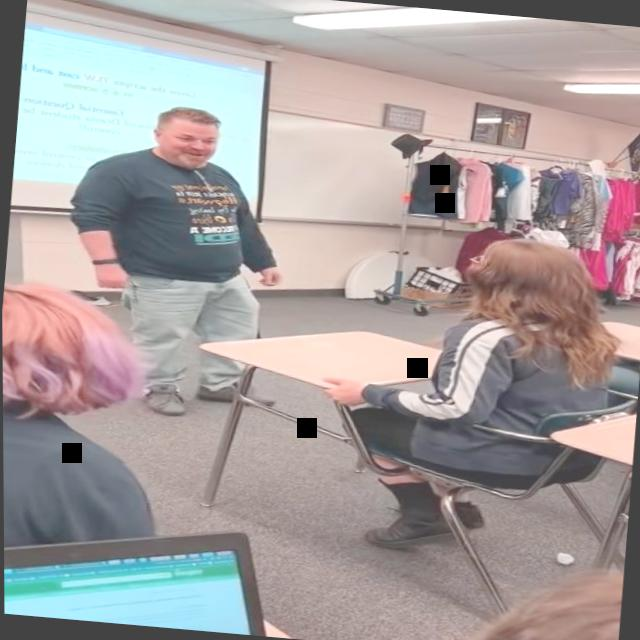NO-Mask: (151, 108, 221, 171)
